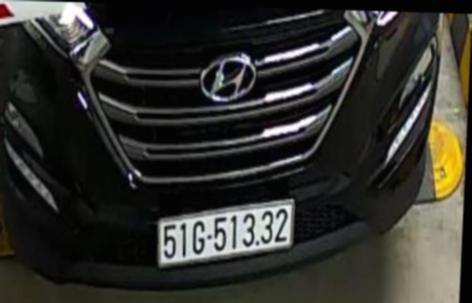License_Plate: (144, 194, 304, 276)
